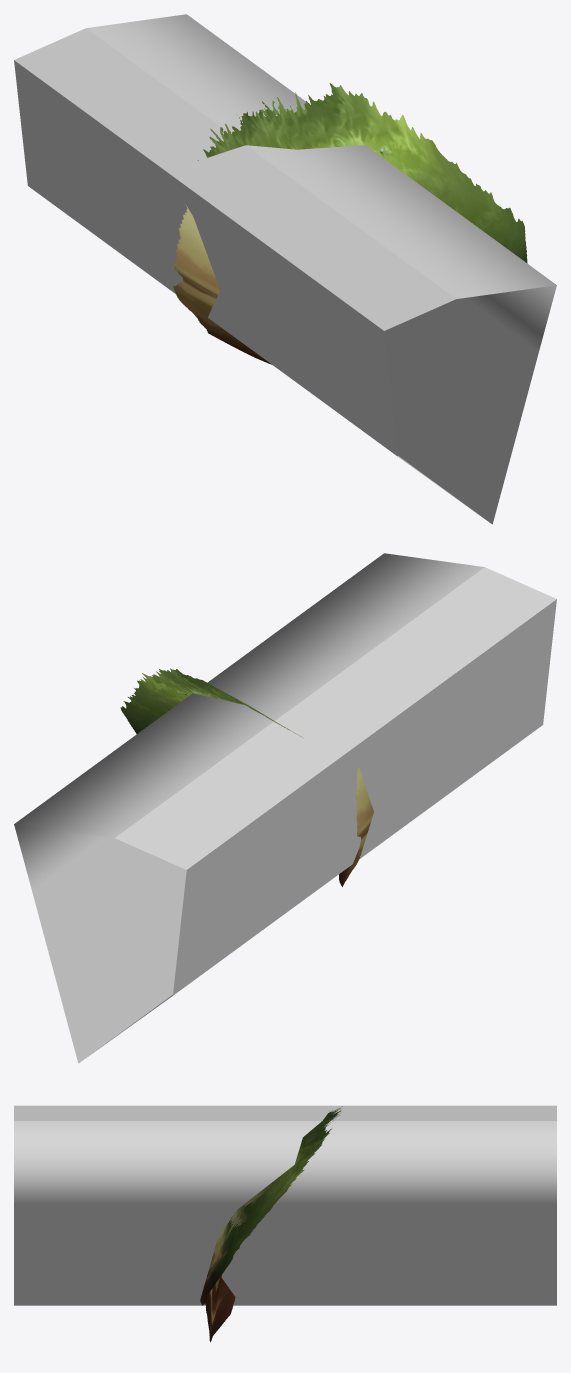
The model's file is Falling Edge 2.FBX.
3 views of the same model, one above another, from view 1: azimuth 30°, elevation 25°; view 2: azimuth 150°, elevation 25°; view 3: azimuth 270°, elevation 25° (orthographic). The views are drawn at different scales.
Visible parts, largest first — view 1: F Edge Col, Falling Edge 2; view 2: F Edge Col, Falling Edge 2; view 3: F Edge Col, Falling Edge 2.
Boxes of the visible parts, <box> form: F Edge Col: <box>14,14,556,524</box>; Falling Edge 2: <box>173,83,527,364</box>; F Edge Col: <box>14,553,556,1063</box>; Falling Edge 2: <box>120,668,373,886</box>; F Edge Col: <box>14,1105,556,1305</box>; Falling Edge 2: <box>200,1106,342,1342</box>.
Bounding box in the file's own units: 499 × 956 × 462.
